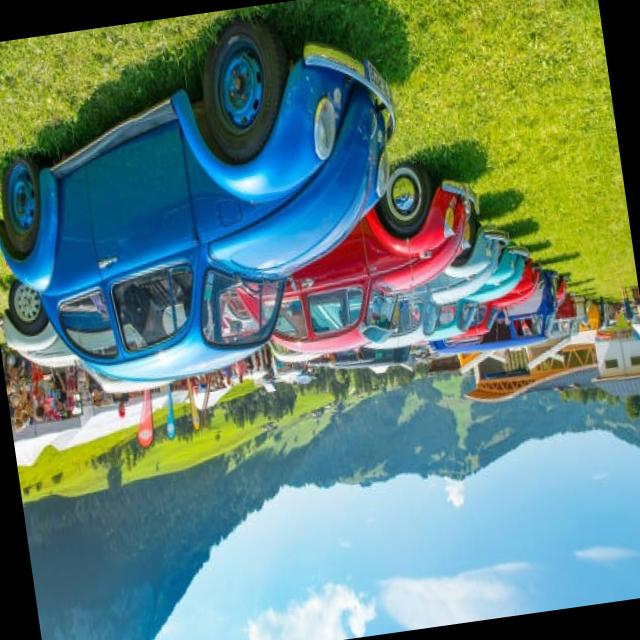car: (0, 24, 427, 396), (248, 164, 484, 375)
